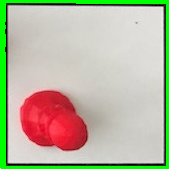Red Pawn: (16, 85, 92, 153)
